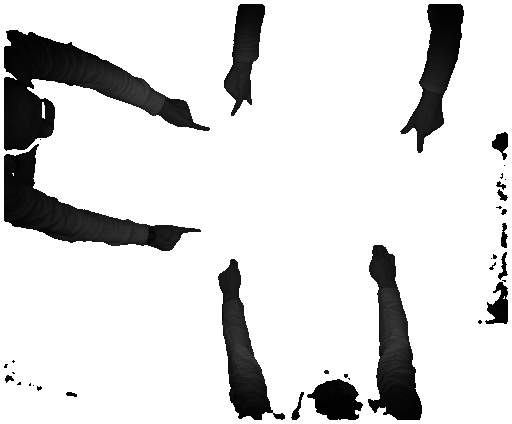hand: (400, 103, 447, 159), (161, 93, 213, 135), (151, 224, 207, 255), (224, 69, 255, 119), (368, 240, 399, 286), (216, 256, 247, 301)
